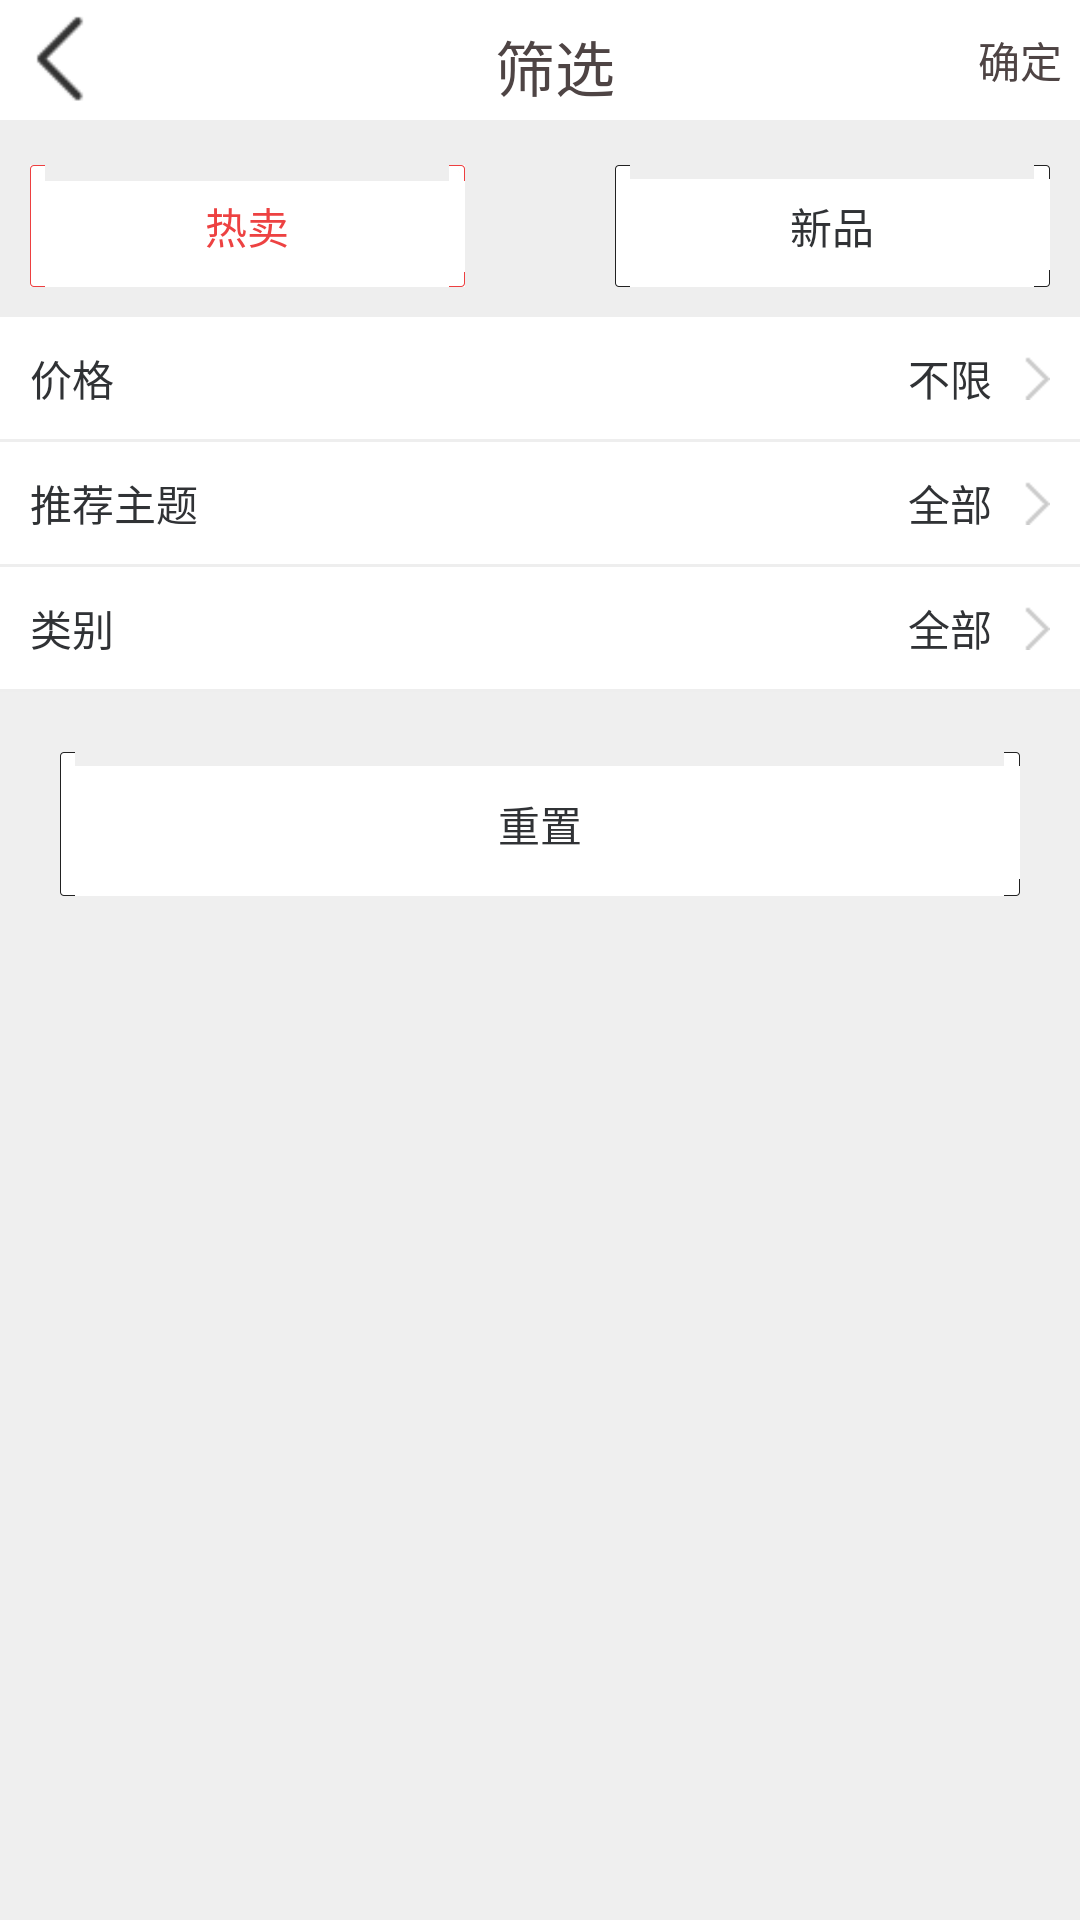

Icons on this 1080*1920 Android screen, each with its box as (x1, y1, x2, y2):
top bar left back: (37, 17, 83, 101)
